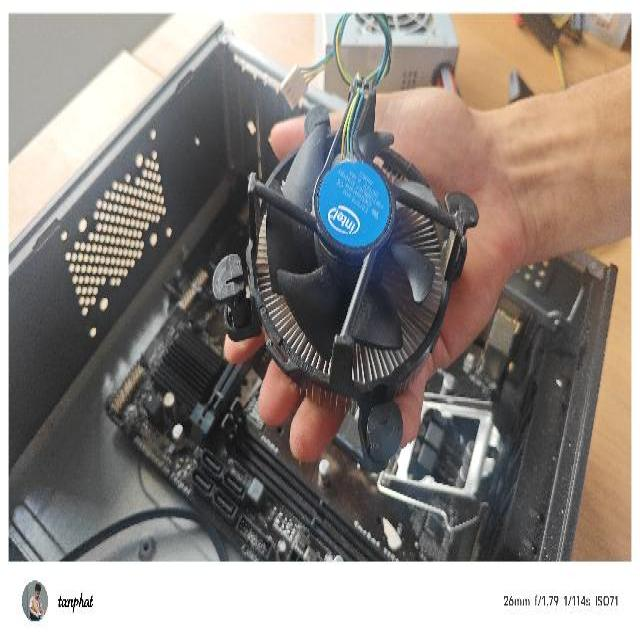CPU_Fan: (212, 79, 480, 479)
